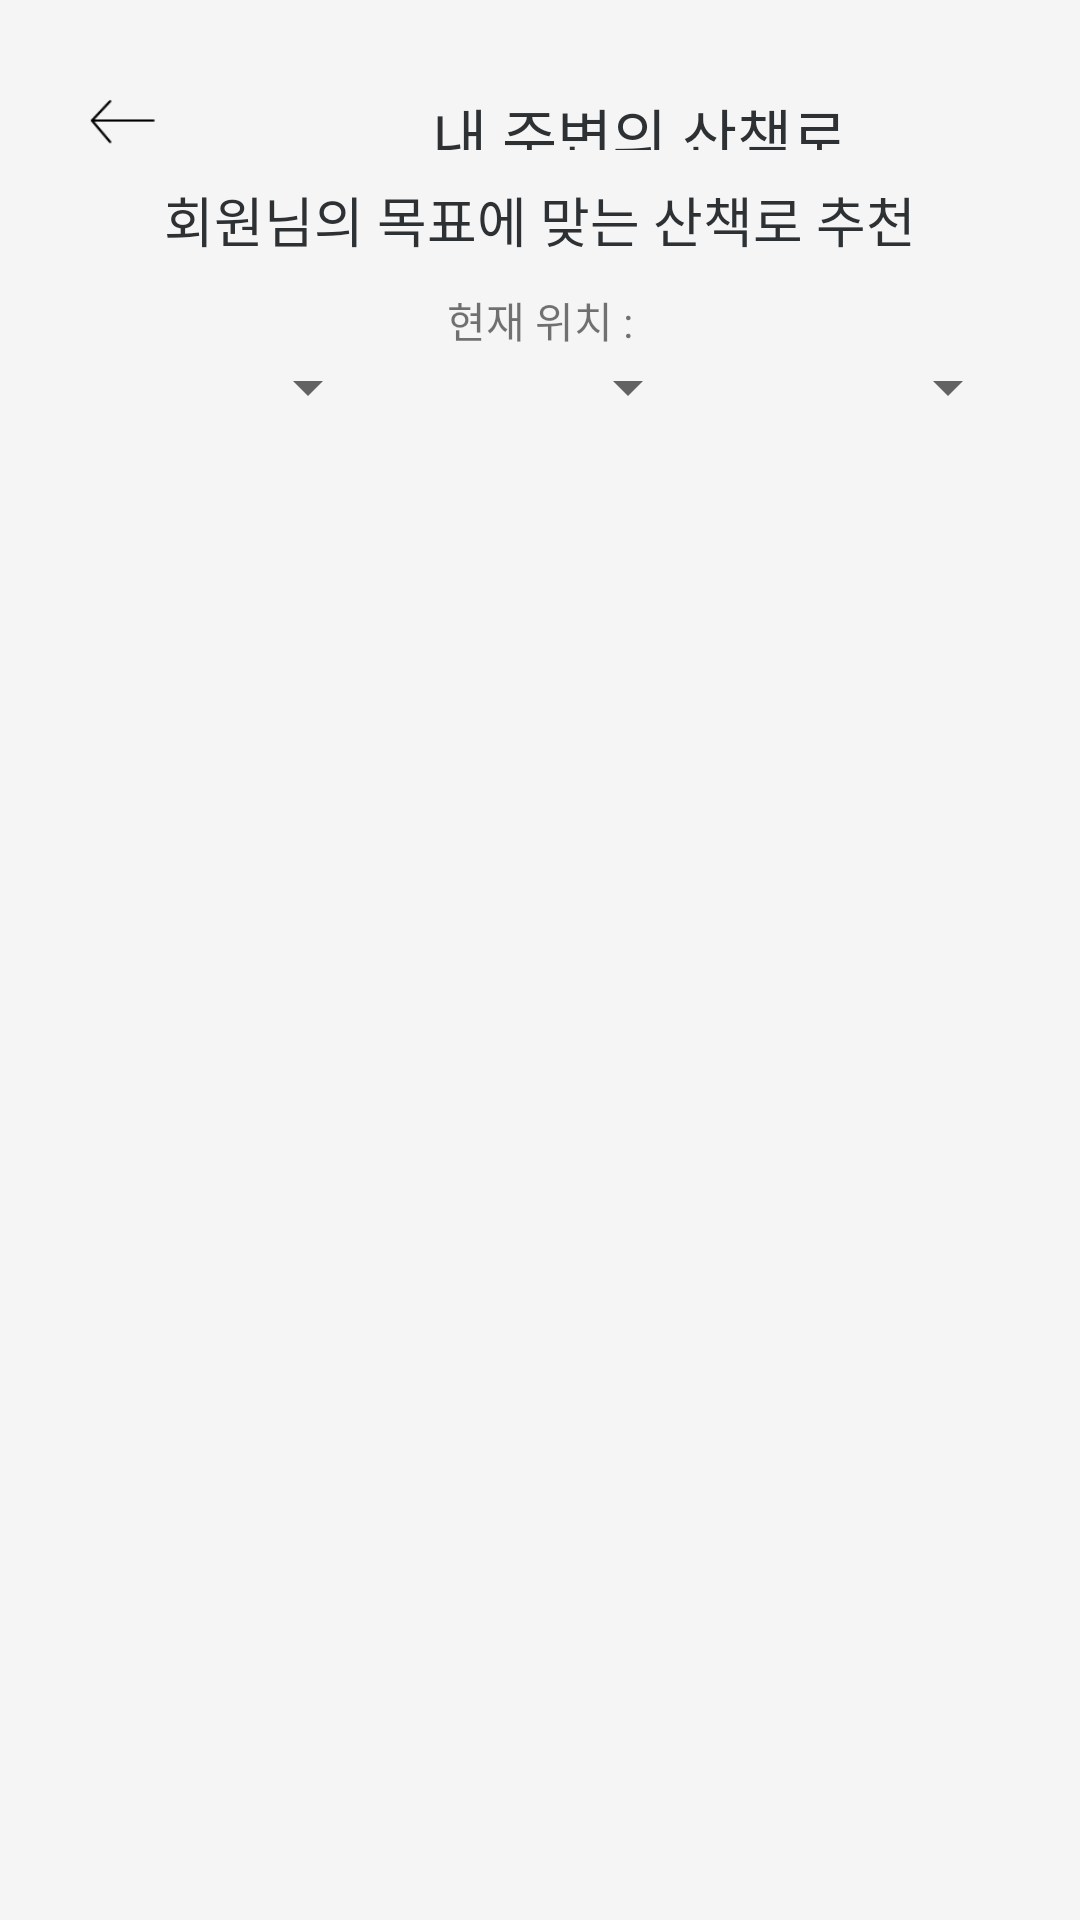

Icon click points for this 1080*1920 phone screenshot, format (x,y):
back: (122,122)
